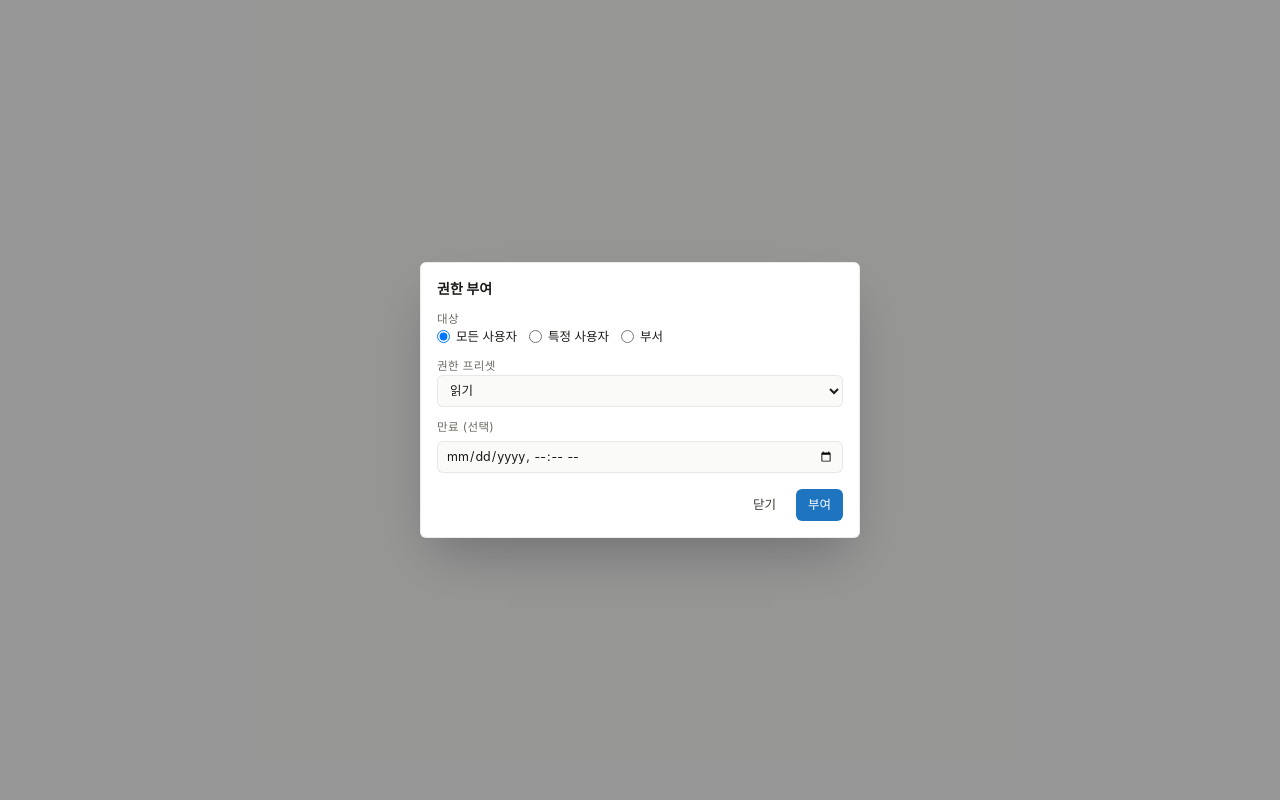
Test: GrantPermissionDialog › Phase C: user 라디오 클릭 → UserSearchCombobox 노출
This screenshot has width=1280, height=800.
Check: the field with placeholder "사용자 이름 또는 이메일" is not shown
Click the radio button labelled "특정 사용자" at (536, 337), box [529,330,542,343]
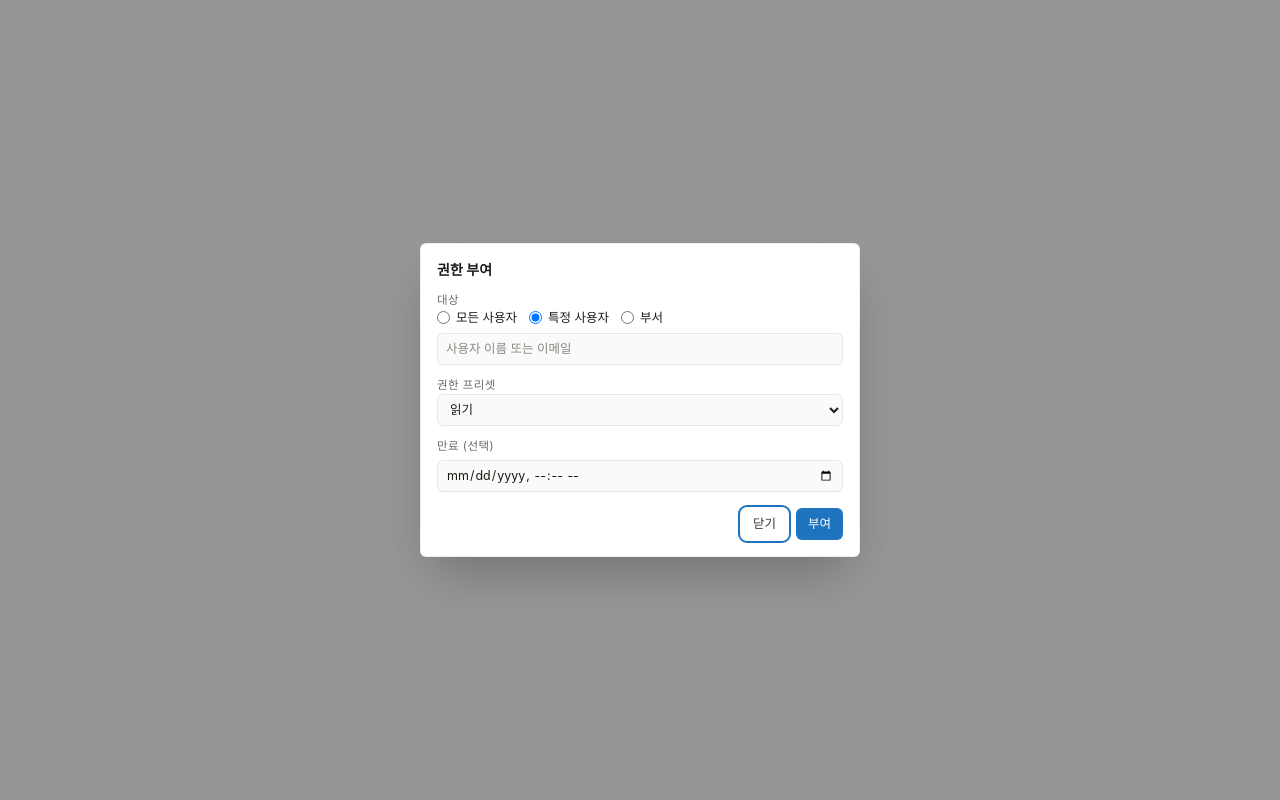
Check: the dropdown with placeholder "사용자 이름 또는 이메일" is shown, box [437,333,843,365]
